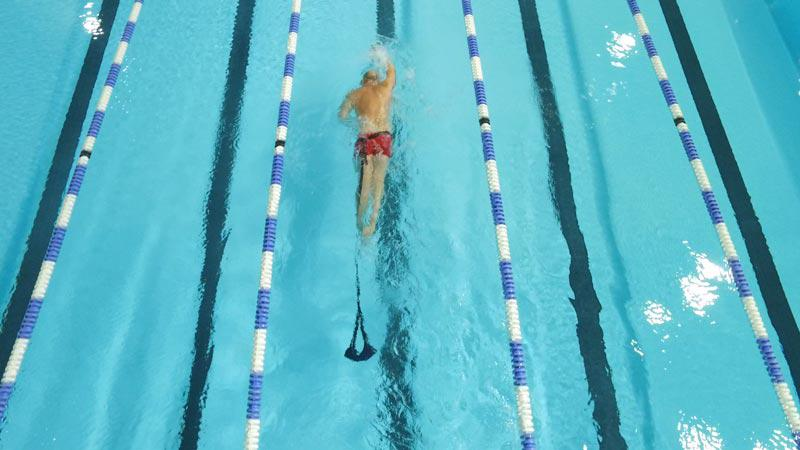swimmer: (336, 39, 404, 237)
